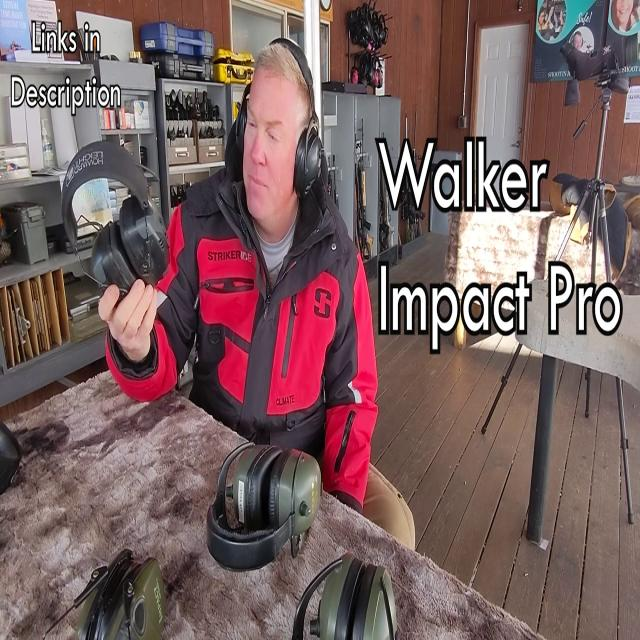earmuff: (119, 194, 173, 284)
